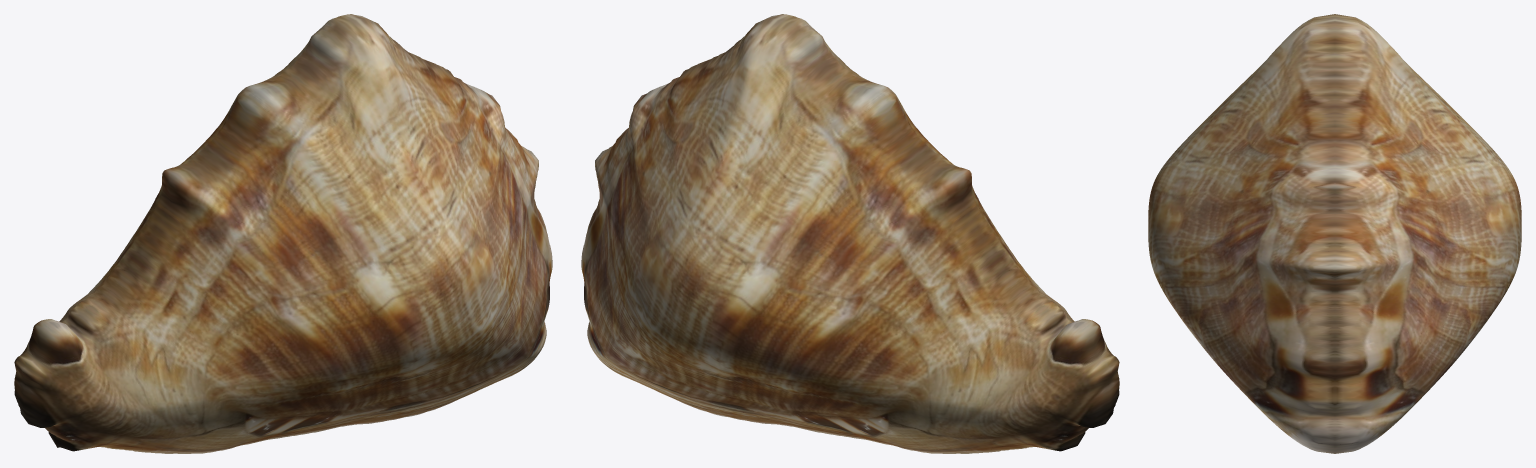
Rendered from conchas_13_07_web.glb.
3 views of the same model, side by side, from view 1: azimuth 30°, elevation 25°; view 2: azimuth 150°, elevation 25°; view 3: azimuth 270°, elevation 25° (orthographic). The views are drawn at different scales.
Parts seen in each view (by area): view 1: Concha_Cassis; view 2: Concha_Cassis; view 3: Concha_Cassis.
Boxes of the visible parts, left/top/right/bottom form: Concha_Cassis: left=14, top=14, right=552, bottom=453; Concha_Cassis: left=581, top=14, right=1119, bottom=453; Concha_Cassis: left=1148, top=14, right=1521, bottom=453.
Bounding box in the file's own units: 0.17 × 0.1249 × 0.1107.
Materials: 1 (1 with a texture image).
